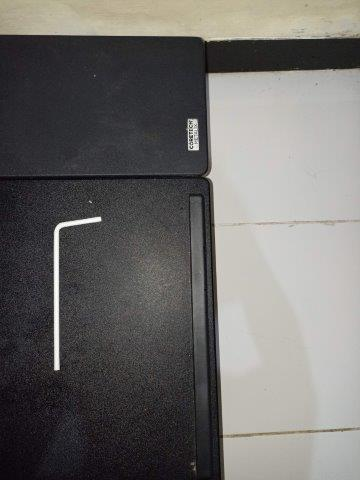sedotan: (53, 216, 101, 370)
